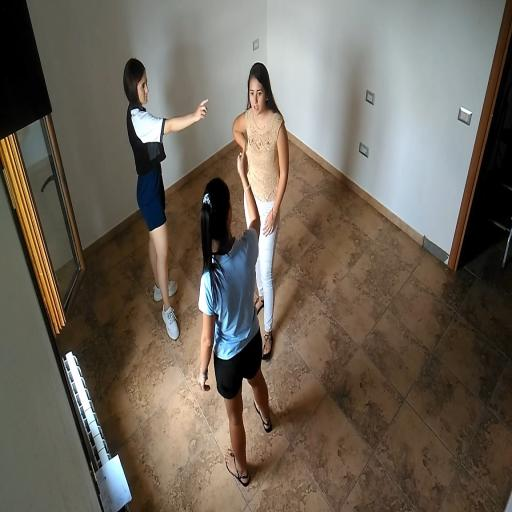nao-violencia: (120, 46, 296, 490)
